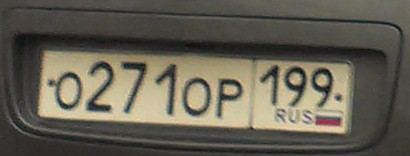character: (117, 56, 150, 115), (85, 57, 116, 115), (152, 58, 180, 117), (181, 71, 212, 119), (216, 75, 243, 121), (308, 63, 334, 109), (55, 71, 82, 112), (283, 64, 307, 109), (260, 65, 281, 108)
